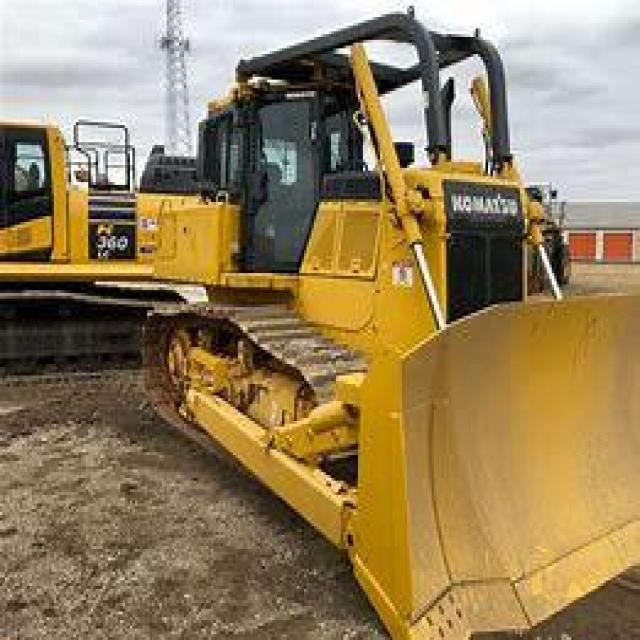Bulldozer: (130, 9, 638, 637)
